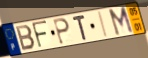B: (15, 24, 37, 52)
F: (30, 20, 49, 50)
I: (98, 10, 110, 39)
M: (107, 5, 135, 38)
P: (53, 17, 72, 46)
T: (71, 14, 88, 41)
